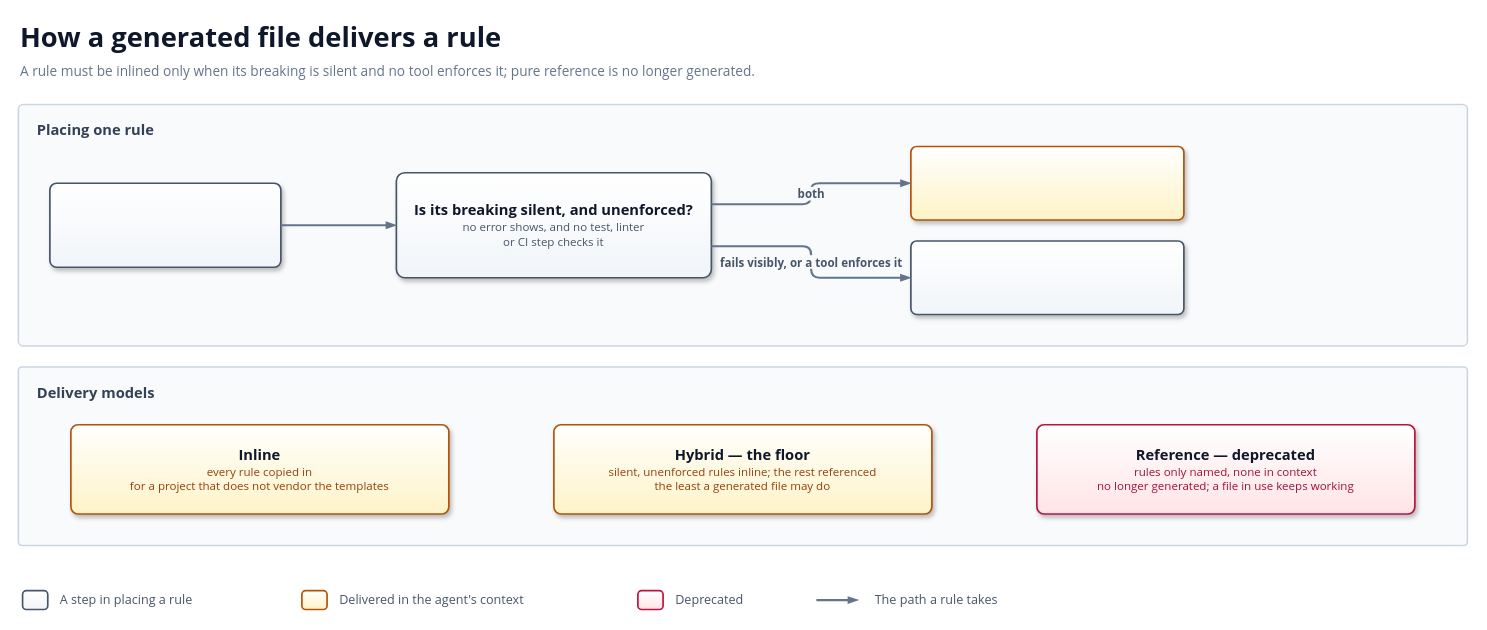
Image size: 1487x630. Some labels were removed from this diagram. Here are the shapes that lost their labels. From the top down, the centre of each, then its label:
At point (1047, 184): "Inline it MUST be copied into the context file".
At point (165, 226): "One rule from the template chain".
At point (1047, 278): "May reference it named in the file, read only when the agent opens it".
